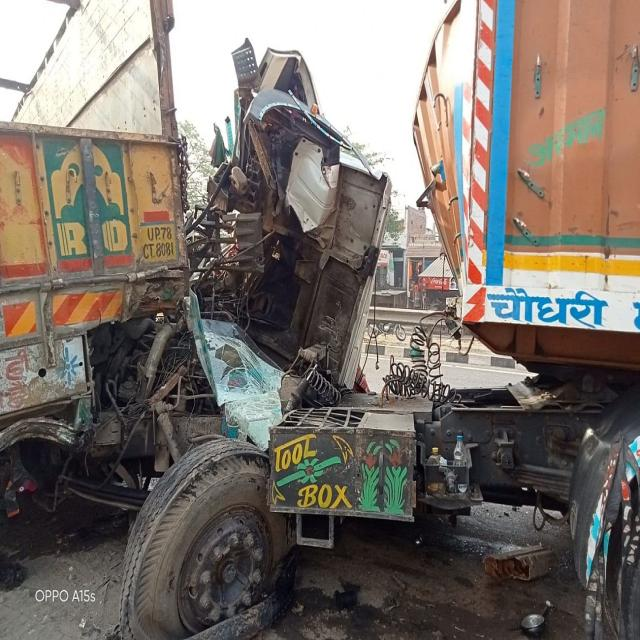accident: (0, 0, 391, 638), (269, 0, 640, 638)
